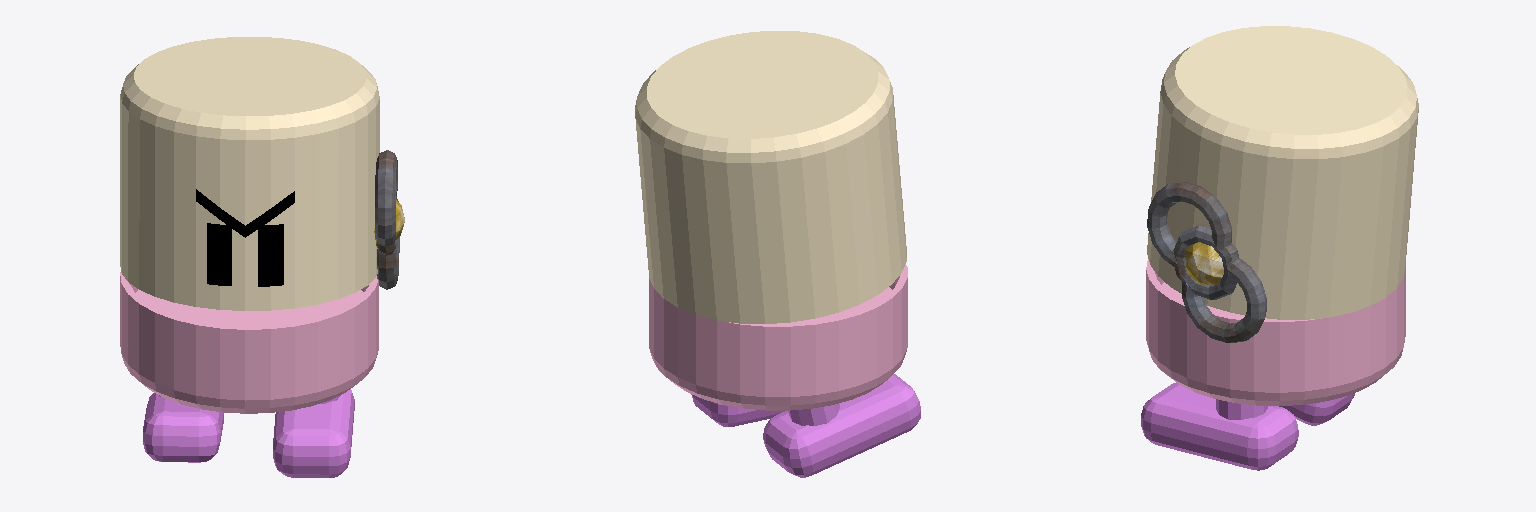
3 renders of one model, left to right at view 1: azimuth 30°, elevation 25°; view 2: azimuth 150°, elevation 25°; view 3: azimuth 270°, elevation 25°, orthographic.
Visible parts, largest first — view 1: Head, Jaw, LeftLeg, RightLeg, WindupKey; view 2: Head, Jaw, RightLeg, LeftLeg; view 3: Head, Jaw, WindupKey, LeftLeg, RightLeg.
Part boxes in pixels (x1,y1,x2,y2): Head: (120,37,379,310); Jaw: (120,272,378,413); LeftLeg: (273,389,354,477); RightLeg: (143,393,223,462); WindupKey: (374,150,404,289); Head: (635,31,906,323); Jaw: (649,264,907,410); RightLeg: (763,374,920,477); LeftLeg: (691,394,784,426); Head: (1147,26,1418,319); Jaw: (1146,259,1405,405); WindupKey: (1147,182,1266,342); LeftLeg: (1141,382,1298,470); RightLeg: (1279,393,1354,425).
Bounding box in the file's own units: 116 × 157 × 107.
6 materials, 2 textured.